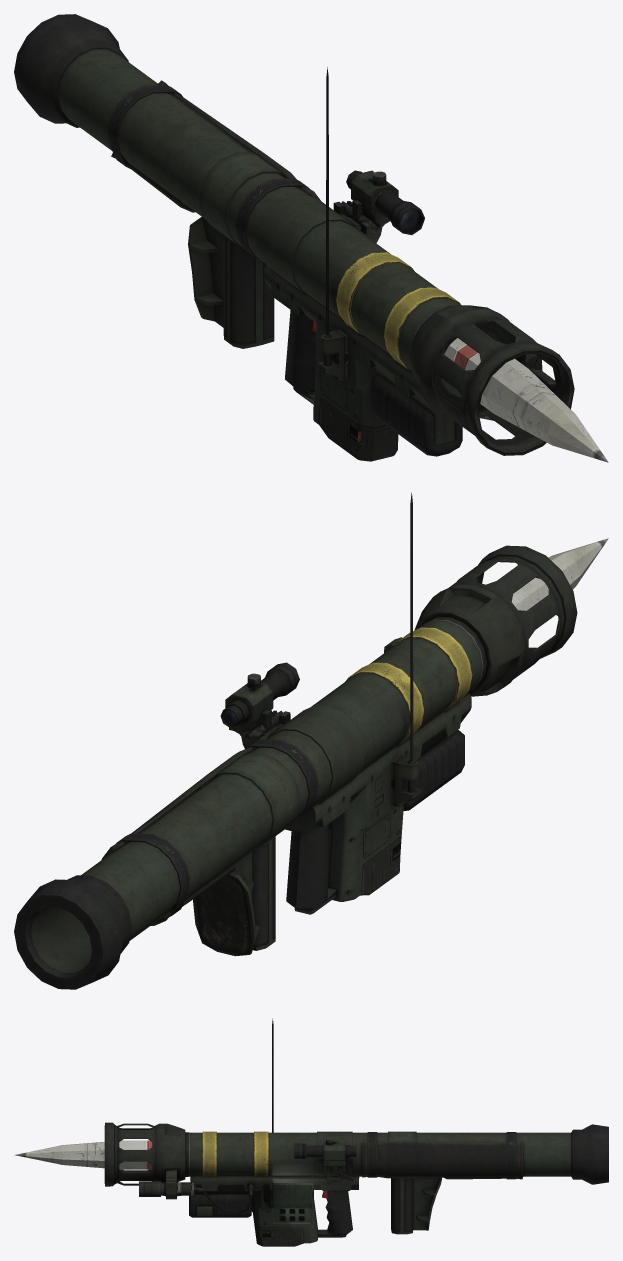
File: RPG Missile Launcher.fbx
3 views of the same model, one above another, from view 1: azimuth 30°, elevation 25°; view 2: azimuth 150°, elevation 25°; view 3: azimuth 270°, elevation 25° (orthographic). The views are drawn at different scales.
Parts seen in each view (by area): view 1: Rocket_Launcher; view 2: Rocket_Launcher; view 3: Rocket_Launcher.
Boxes of the visible parts, bbox=[...] form: Rocket_Launcher: bbox=[14, 14, 608, 462]; Rocket_Launcher: bbox=[14, 492, 608, 989]; Rocket_Launcher: bbox=[14, 1018, 608, 1246].
Size of the model in its own units: 0.2492 by 0.7288 by 1.85.
